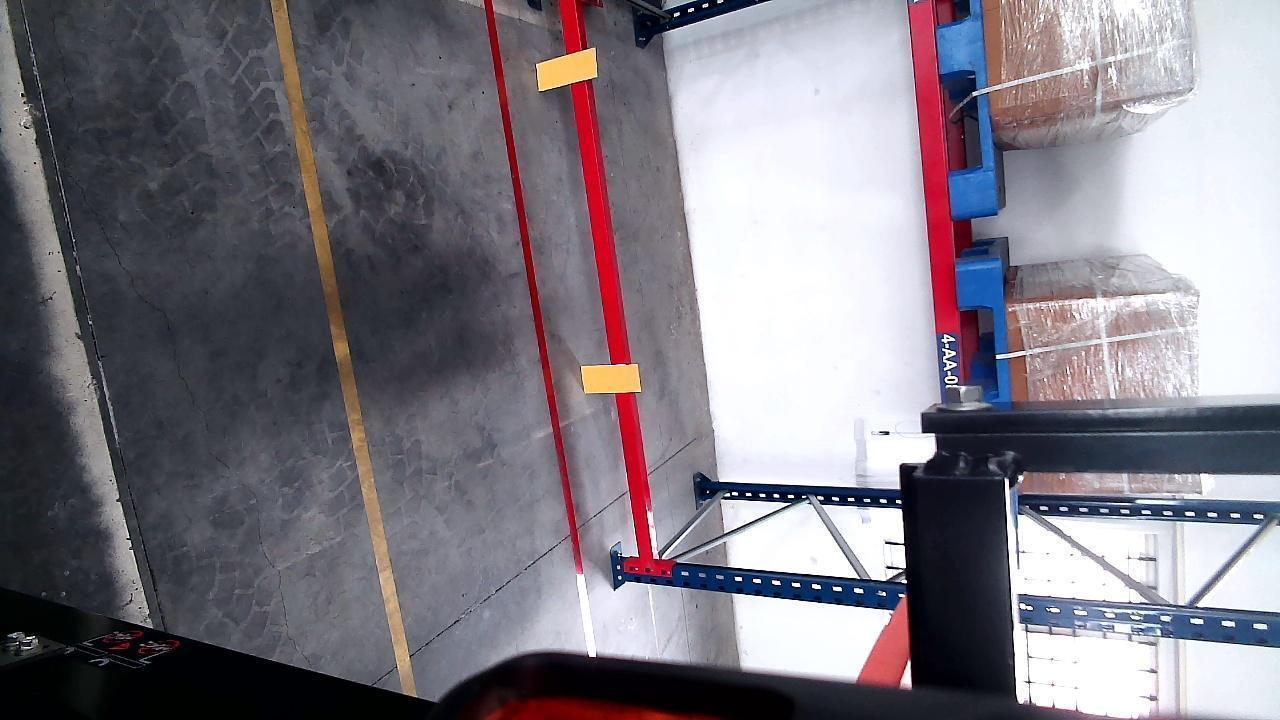red_line: (482, 0, 586, 601)
yellow_line: (259, 0, 429, 703)
